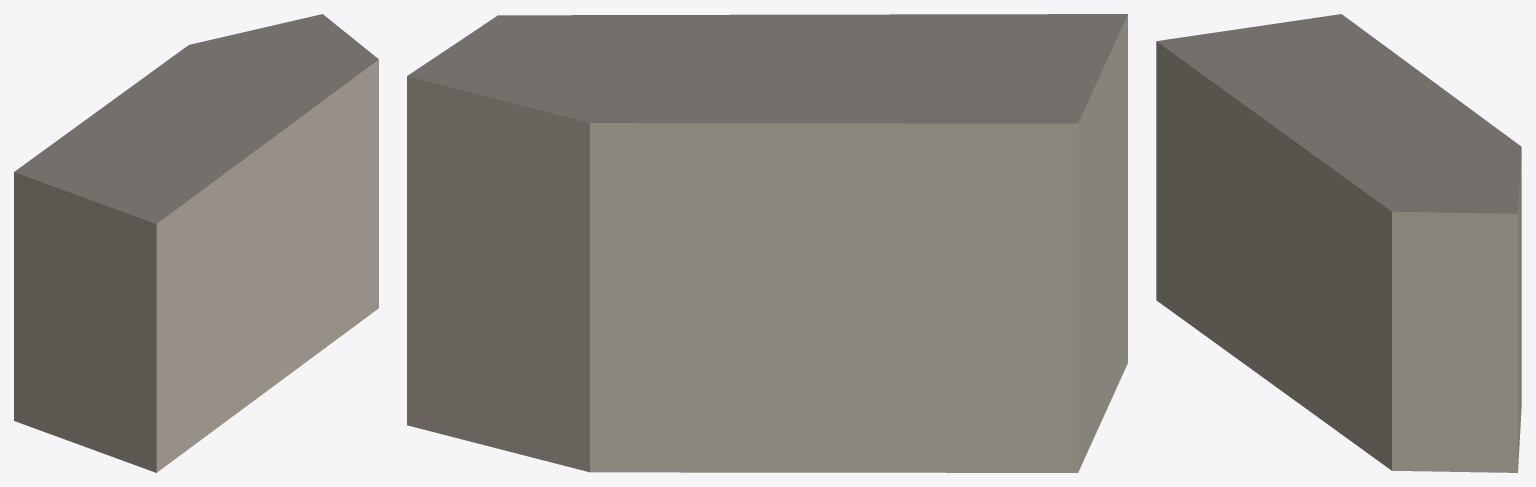
The picture shows the model from 3 angles, left to right: view 1: azimuth 30°, elevation 25°; view 2: azimuth 150°, elevation 25°; view 3: azimuth 270°, elevation 25°; orthographic projection. The views are drawn at different scales.
Parts seen in each view (by area): view 1: HP-w446934937; view 2: HP-w446934937; view 3: HP-w446934937.
Part boxes in pixels (x1=…): HP-w446934937: x1=14, y1=14, x2=378, y2=472; HP-w446934937: x1=407, y1=14, x2=1127, y2=472; HP-w446934937: x1=1156, y1=14, x2=1521, y2=472.
Bounding box in the file's own units: 29.78 × 18 × 23.01.
